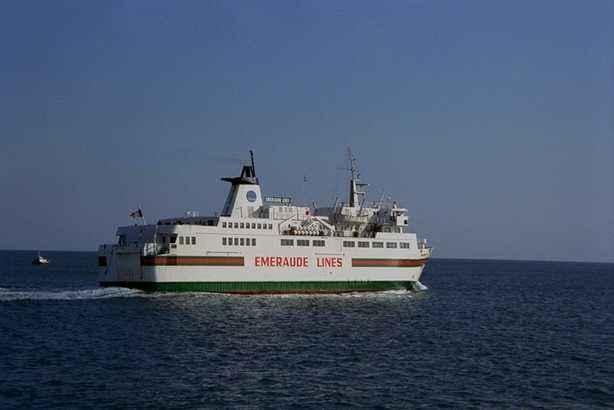youlun: (85, 142, 433, 295)
